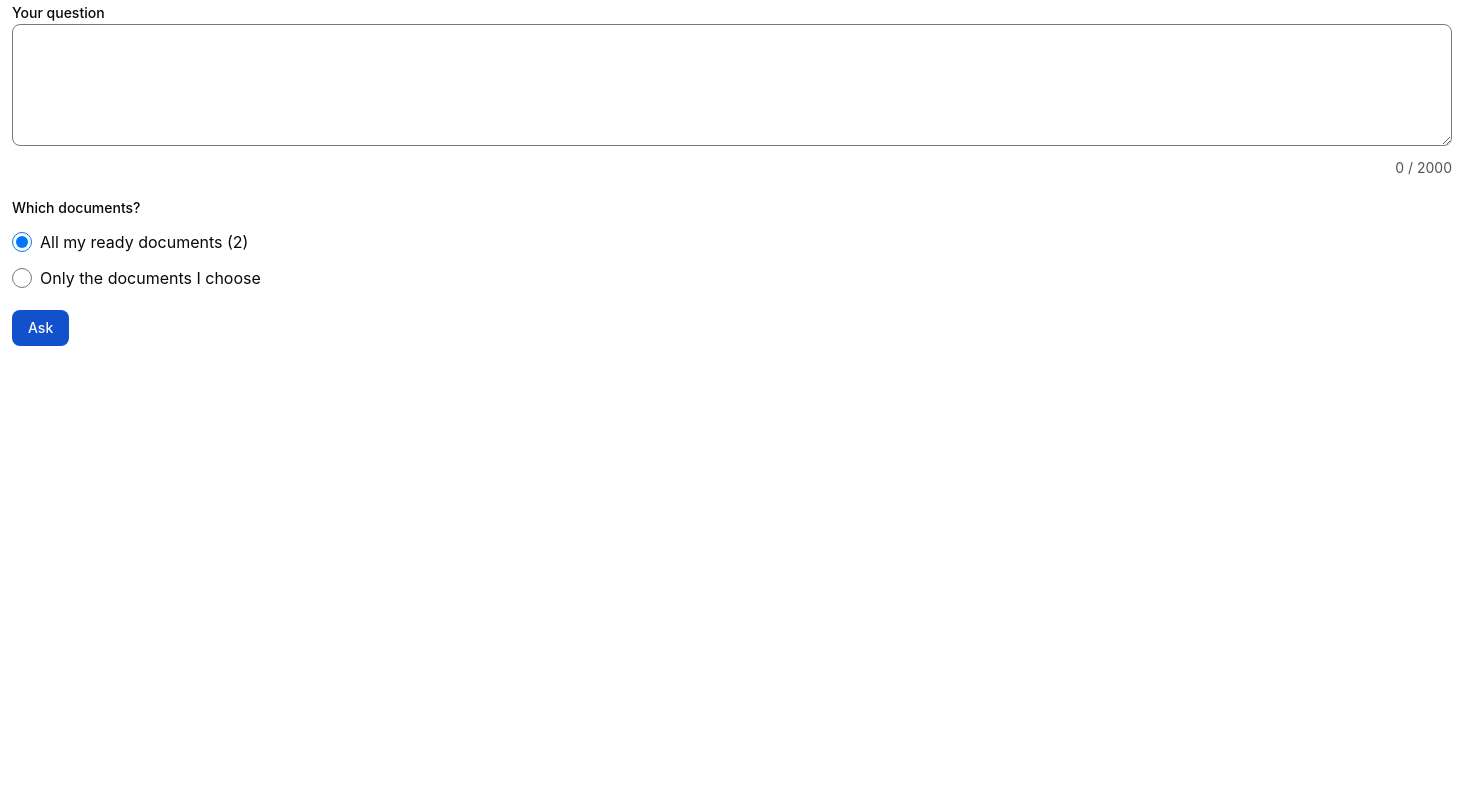
Scenario: AskView › shows the not-found state instead of a normal answer
Type "q" into the text box labelled "Your question" at [732, 85], box [12,24,1452,146]
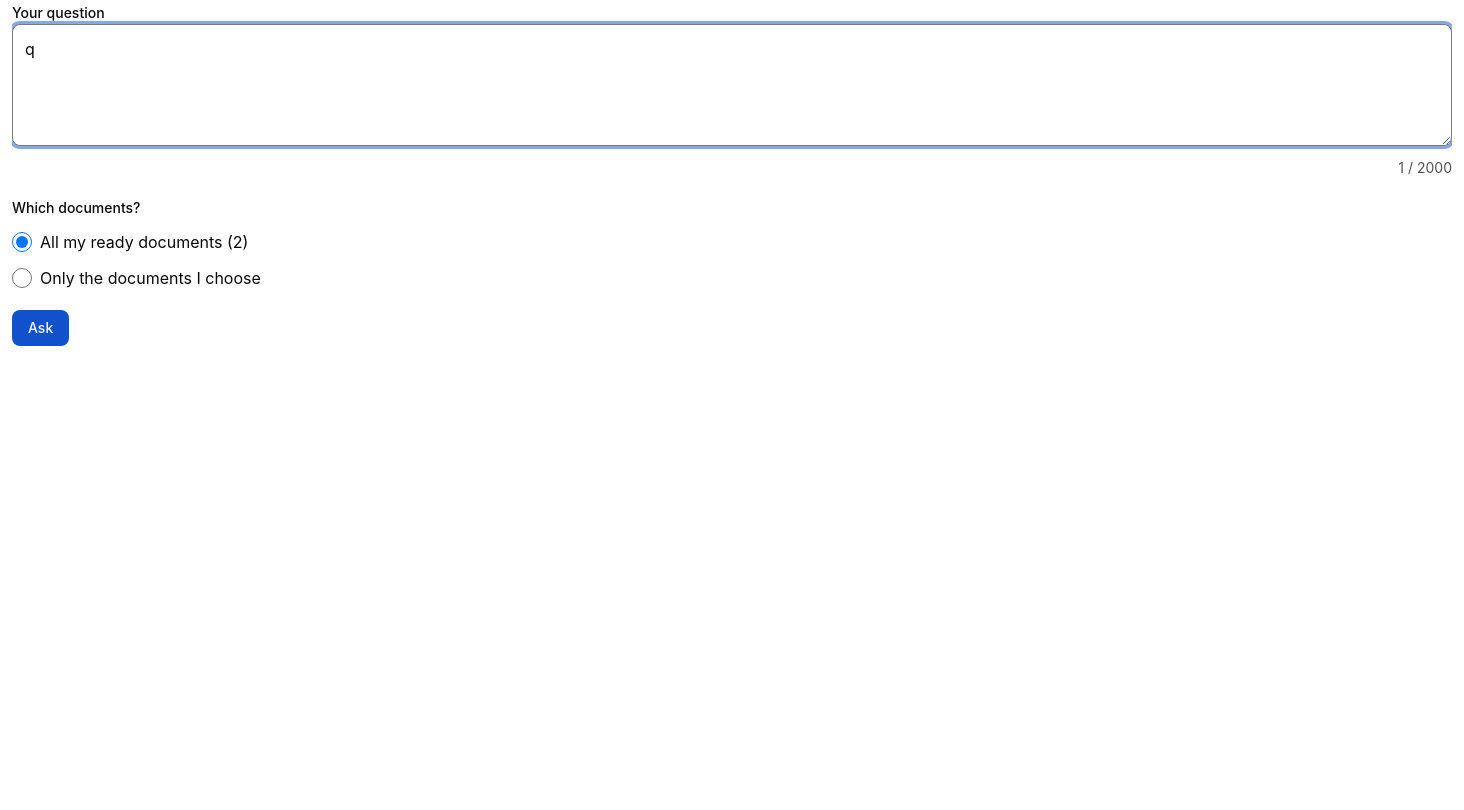
Click the button "Ask" at [41, 328], box [12,310,69,346]
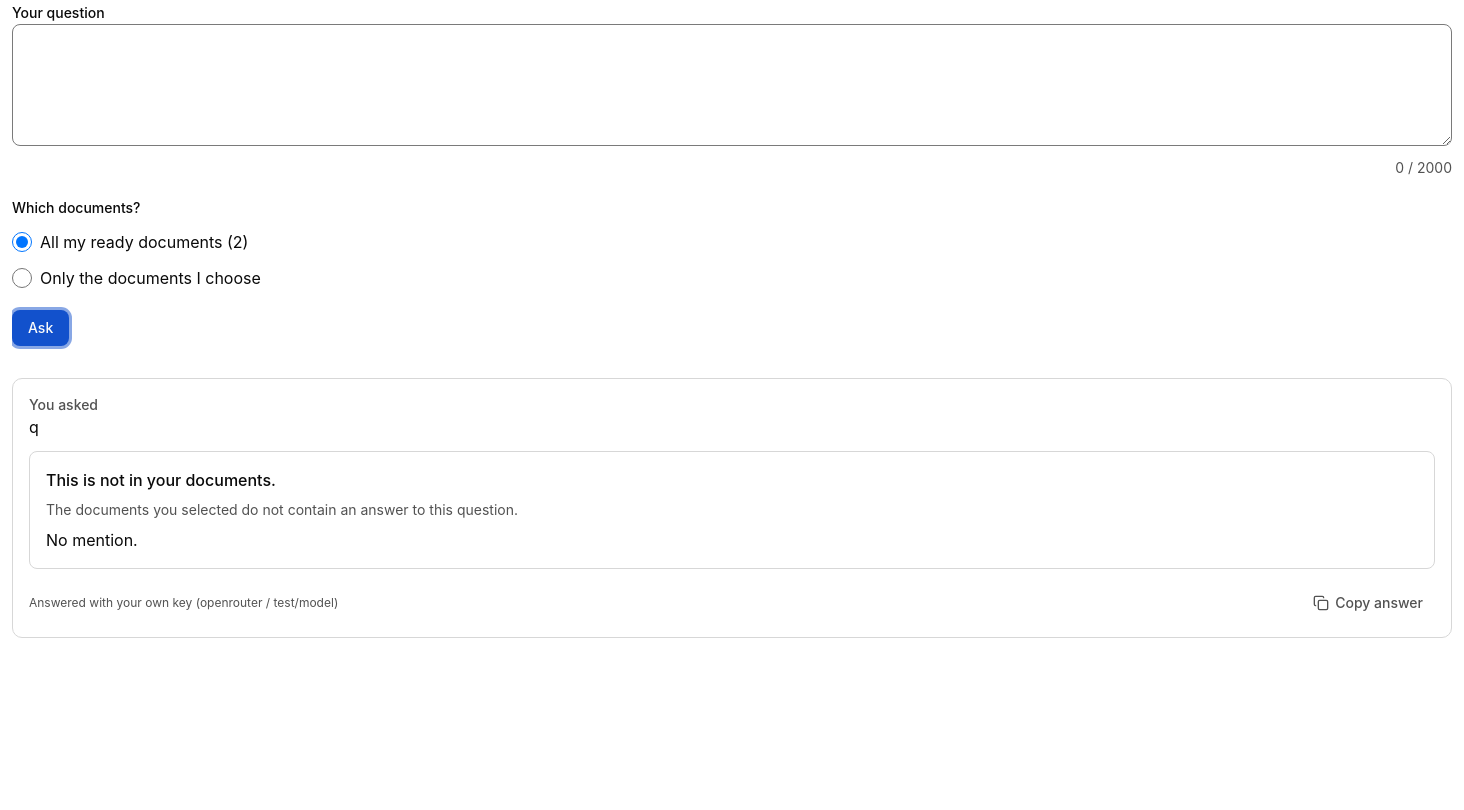
Result: the element with test id "answer-not-found" shows "This is not in your documents." at [46,470,276,490]
